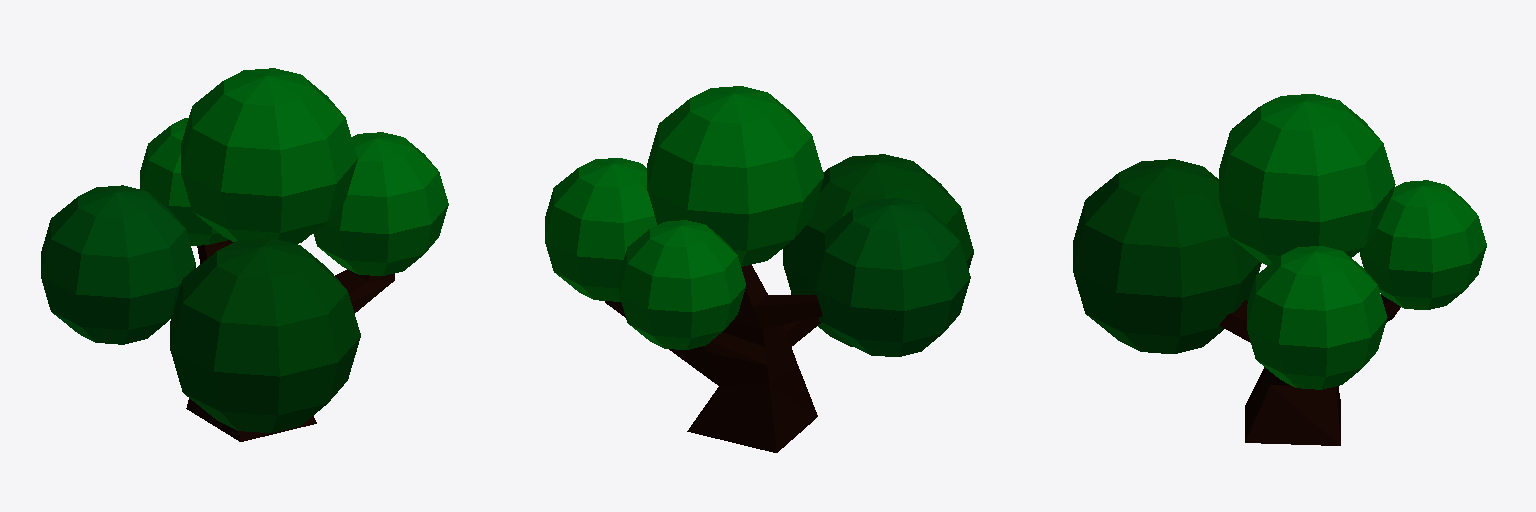
Rendered from Bush.obj.
The picture shows the model from 3 angles: view 1: azimuth 30°, elevation 25°; view 2: azimuth 150°, elevation 25°; view 3: azimuth 270°, elevation 25°; orthographic projection.
Parts seen in each view (by area): view 1: Sphere.002, Sphere, Sphere.001, Sphere.003_Sphere.004, Sphere.004_Sphere.005, Cube; view 2: Sphere, Sphere.001, Cube, Sphere.004_Sphere.005, Sphere.003_Sphere.004, Sphere.002; view 3: Sphere.002, Sphere, Sphere.003_Sphere.004, Sphere.004_Sphere.005, Cube.
Part boxes in pixels (left/top/right/bottom): Sphere.002: left=170, top=238, right=360, bottom=432; Sphere: left=181, top=68, right=357, bottom=243; Sphere.001: left=41, top=185, right=195, bottom=344; Sphere.003_Sphere.004: left=313, top=132, right=448, bottom=275; Sphere.004_Sphere.005: left=140, top=118, right=228, bottom=245; Cube: left=186, top=240, right=394, bottom=441; Sphere: left=647, top=86, right=823, bottom=266; Sphere.001: left=815, top=198, right=970, bottom=356; Cube: left=605, top=265, right=895, bottom=452; Sphere.004_Sphere.005: left=619, top=220, right=745, bottom=349; Sphere.003_Sphere.004: left=545, top=158, right=656, bottom=301; Sphere.002: left=783, top=154, right=973, bottom=346; Sphere.002: left=1073, top=159, right=1261, bottom=353; Sphere: left=1219, top=94, right=1395, bottom=265; Sphere.003_Sphere.004: left=1247, top=246, right=1387, bottom=389; Sphere.004_Sphere.005: left=1360, top=180, right=1486, bottom=309; Cube: left=1219, top=294, right=1400, bottom=445.
Size of the model in its own units: 5.01 by 3.97 by 4.5.